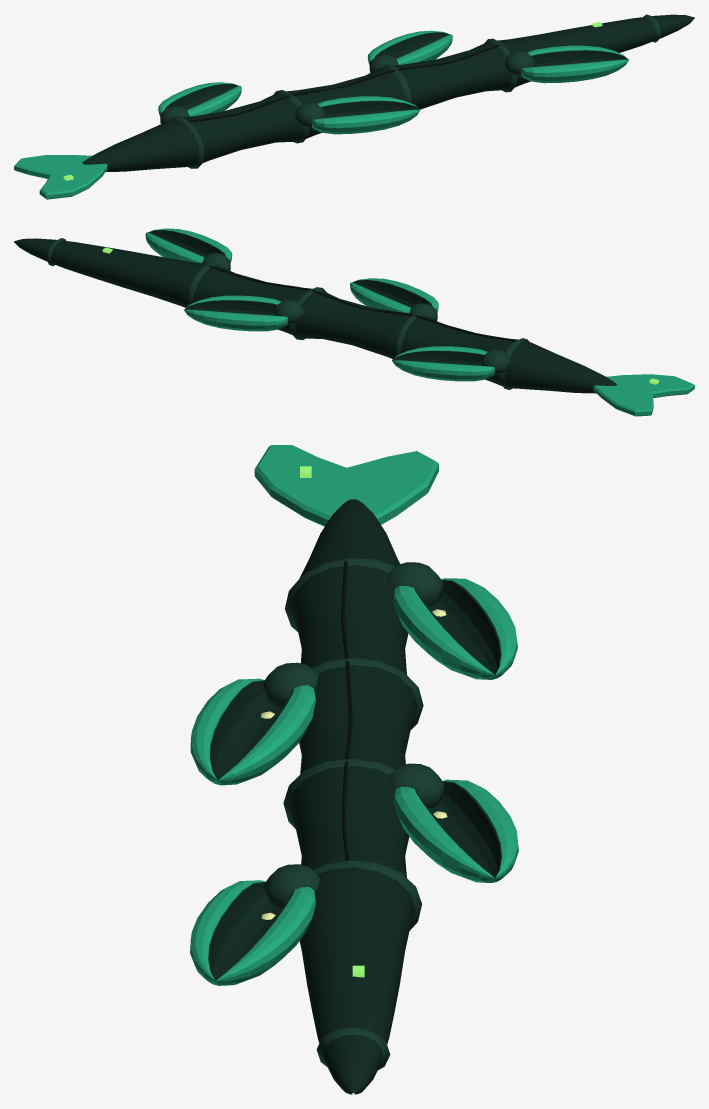
The model's file is rootstock-pelagia.glb.
3 renders of one model, top to bottom at view 1: azimuth 30°, elevation 25°; view 2: azimuth 150°, elevation 25°; view 3: azimuth 270°, elevation 25°, orthographic. The views are drawn at different scales.
Parts seen in each view (by area): view 1: stem, drive_fluke, bud_sheath_2, bud_sheath_0, bud_sheath_1, bud_sheath_3, sheath_lining_0, sheath_lining_2, stolon_vein, sheath_lining_1, sheath_lining_3, bud_node_2 (+4 smaller); view 2: stem, drive_fluke, bud_sheath_1, bud_sheath_3, bud_sheath_2, bud_sheath_0, sheath_lining_1, sheath_lining_3, sheath_lining_2, sheath_lining_0, stolon_vein, bud_node_1 (+3 smaller); view 3: stem, drive_fluke, bud_sheath_2, bud_sheath_0, bud_sheath_1, bud_sheath_3, sheath_lining_2, sheath_lining_0, sheath_lining_1, sheath_lining_3, bud_node_2, bud_node_0 (+7 smaller).
Boxes of the visible parts, bbox=[...] form: stem: bbox=[82, 14, 694, 171]; drive_fluke: bbox=[14, 155, 107, 199]; bud_sheath_2: bbox=[311, 96, 419, 134]; bud_sheath_0: bbox=[521, 45, 628, 83]; bud_sheath_1: bbox=[367, 30, 452, 64]; bud_sheath_3: bbox=[158, 82, 241, 116]; sheath_lining_0: bbox=[525, 50, 628, 67]; sheath_lining_2: bbox=[315, 101, 419, 119]; stolon_vein: bbox=[188, 44, 499, 122]; sheath_lining_1: bbox=[374, 32, 449, 58]; sheath_lining_3: bbox=[165, 84, 238, 110]; bud_node_2: bbox=[295, 102, 325, 128]; stem: bbox=[14, 238, 616, 393]; drive_fluke: bbox=[593, 374, 694, 416]; bud_sheath_1: bbox=[184, 295, 288, 331]; bud_sheath_3: bbox=[392, 346, 494, 381]; bud_sheath_2: bbox=[350, 278, 438, 312]; bud_sheath_0: bbox=[145, 228, 232, 263]; sheath_lining_1: bbox=[184, 300, 285, 316]; sheath_lining_3: bbox=[392, 351, 491, 366]; sheath_lining_2: bbox=[353, 280, 431, 307]; sheath_lining_0: bbox=[148, 230, 225, 257]; stolon_vein: bbox=[208, 265, 516, 341]; bud_node_1: bbox=[274, 299, 303, 324]; stem: bbox=[289, 499, 417, 1094]; drive_fluke: bbox=[254, 445, 438, 526]; bud_sheath_2: bbox=[190, 678, 315, 785]; bud_sheath_0: bbox=[190, 880, 315, 985]; bud_sheath_1: bbox=[394, 779, 518, 882]; bud_sheath_3: bbox=[393, 578, 517, 679]; sheath_lining_2: bbox=[210, 680, 293, 780]; sheath_lining_0: bbox=[208, 882, 293, 980]; sheath_lining_1: bbox=[415, 781, 501, 878]; sheath_lining_3: bbox=[414, 580, 501, 674]; bud_node_2: bbox=[263, 662, 318, 707]; bud_node_0: bbox=[264, 864, 319, 908].
Bounding box in the file's own units: 115 × 7.84 × 24.84.
